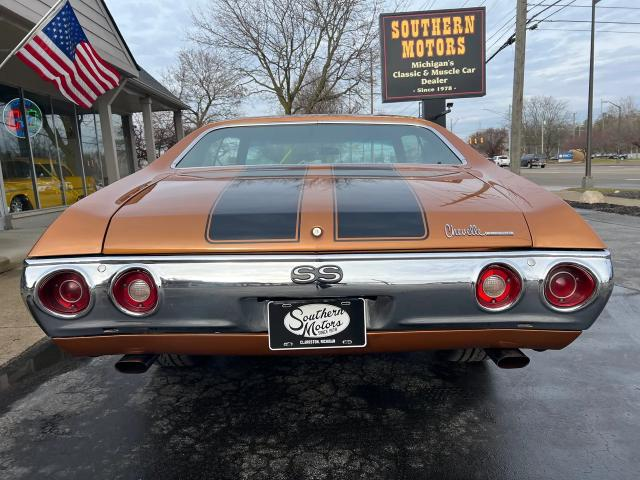chevelle-1972: (22, 116, 614, 367)
